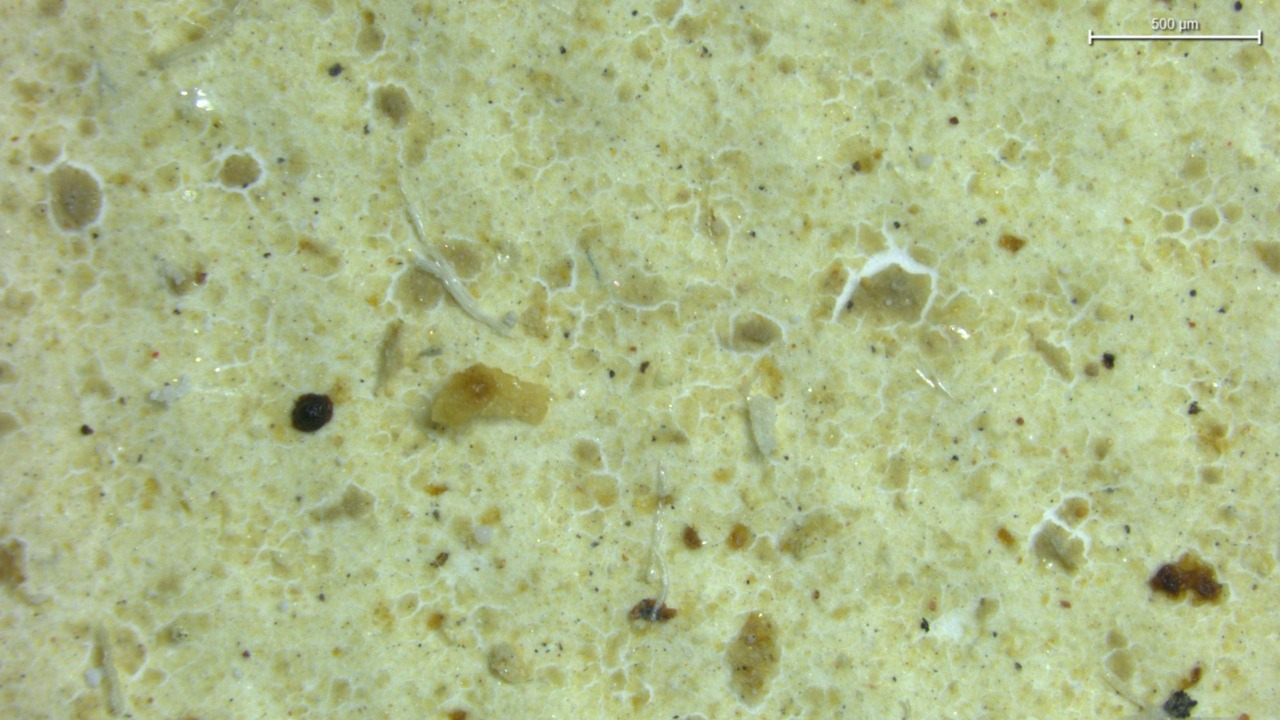microplastic_fragment: (430, 364, 549, 429), (748, 395, 776, 457)
